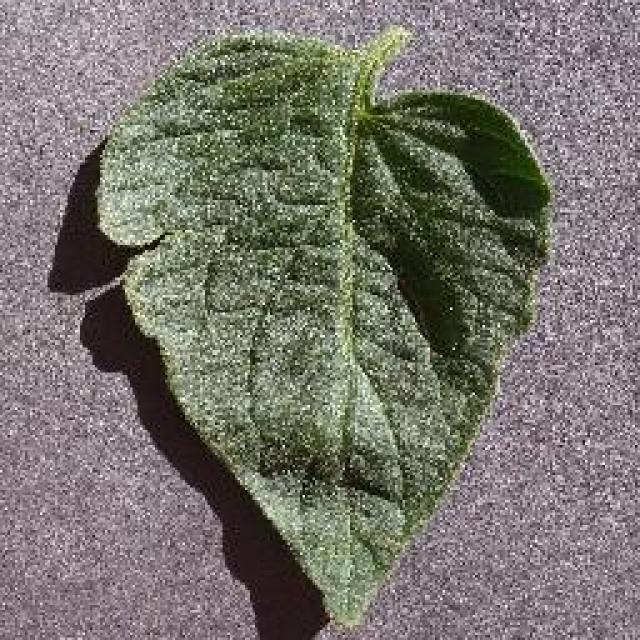Tomato___healthy: (92, 19, 556, 626)
